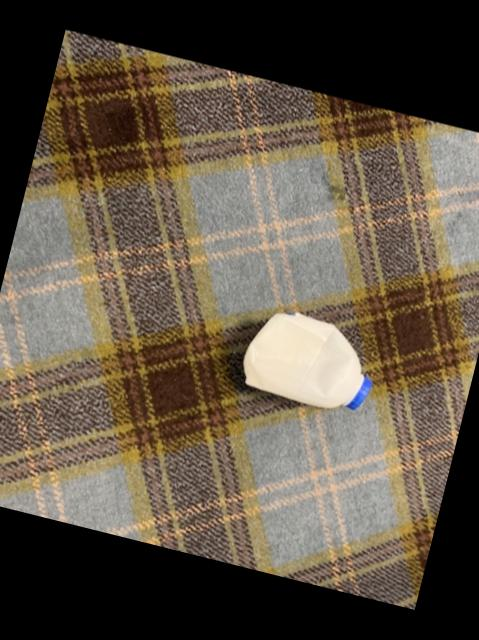plastic: (242, 312, 369, 408)
